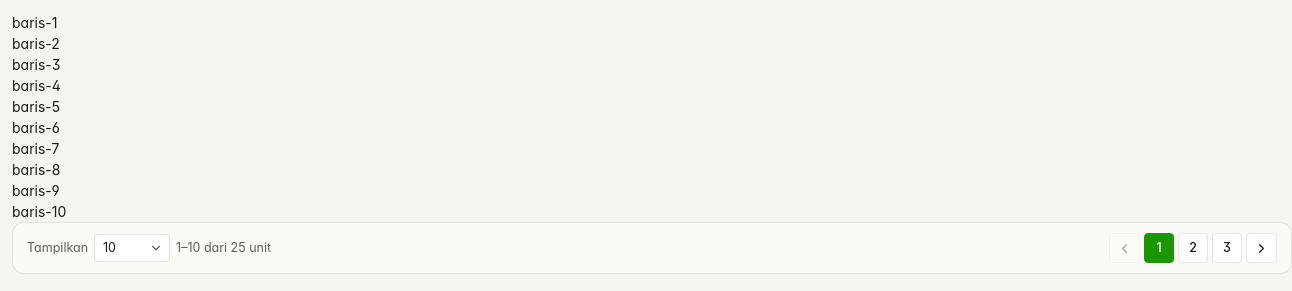
Scenario: Pagination › tombol berikutnya mengganti isi daftar
Expected: the list item "baris-1" is shown, [12,14,58,31]
What coordinates should you click on to do the following:
click the button named "Halaman berikutnya"
I would click on:
 (1262, 248)
Its box is [1246,233,1277,263].
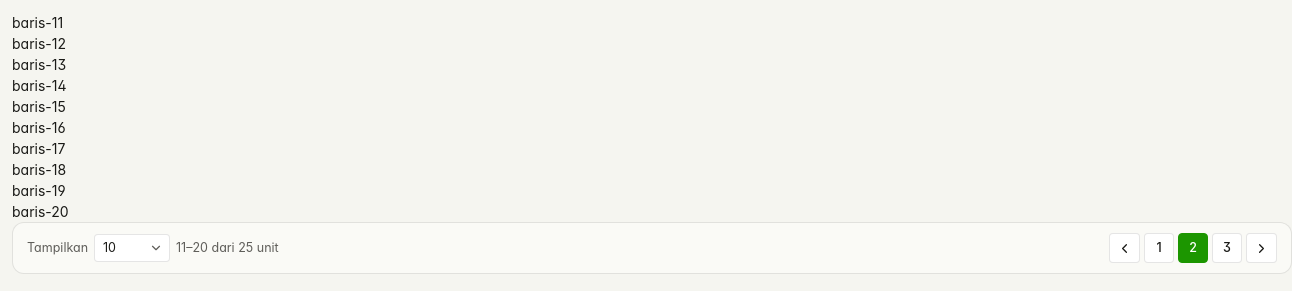
Expected: the list item "baris-11" is shown, [12,14,63,31]
Expected: the text "11–20 dari 25 unit" is shown, [27,234,279,262]
